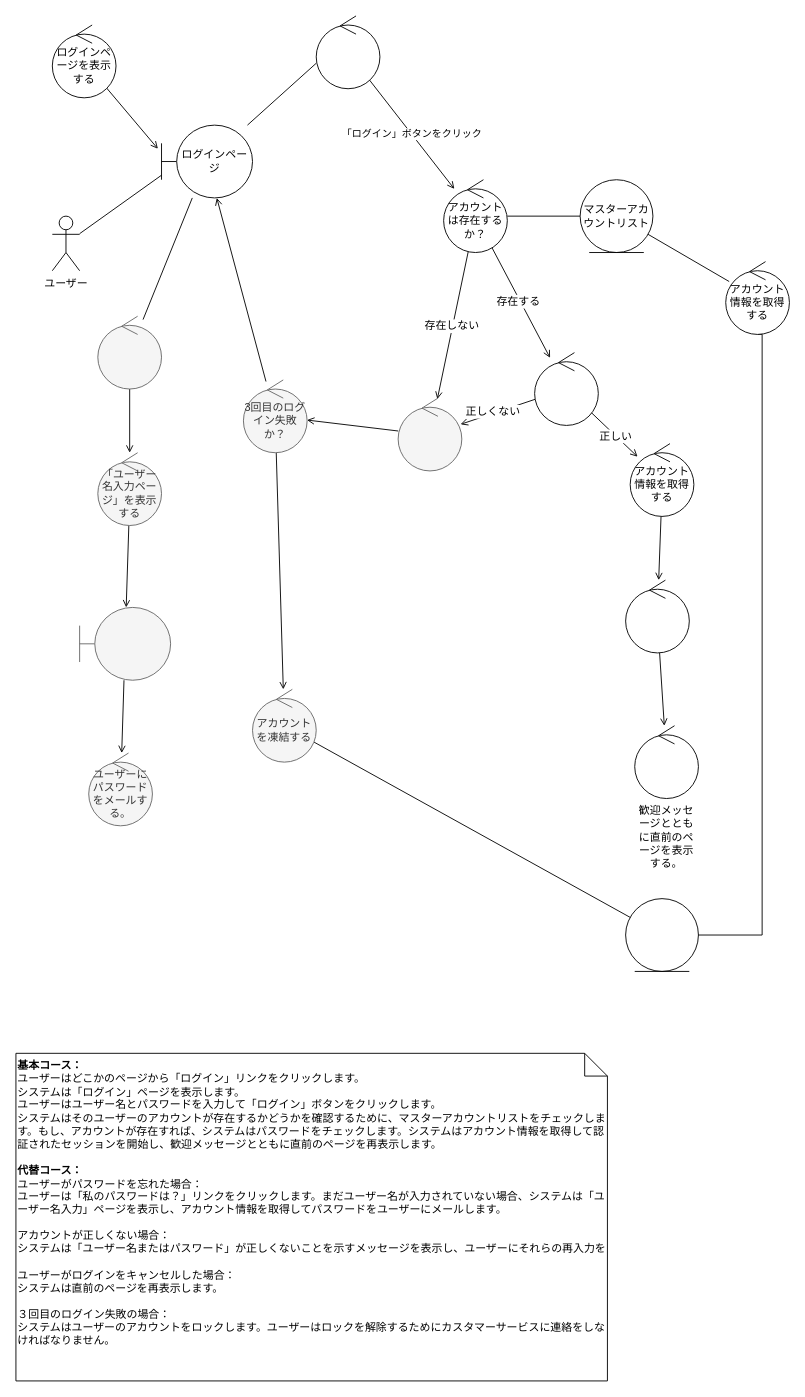
The diagram is 805 pixels wide and 1397 high, and some of its shapes have lost their labels. The shapes that lost their labels are listed below. From the top down, each one's centre as x and y in pixels, then its label:
(x=347, y=52): ユーザー名とパスワードを入力する
(x=129, y=352): 「私のパスワードは？」をクリックする
(x=566, y=388): パスワードは正しいか？
(x=429, y=434): 「ユーザー名またはパスワード」が正しくないことを示すメッセージを表示する
(x=657, y=616): 認証済みセッションの開始
(x=125, y=643): ユーザー入力ページ
(x=661, y=934): アカウント
